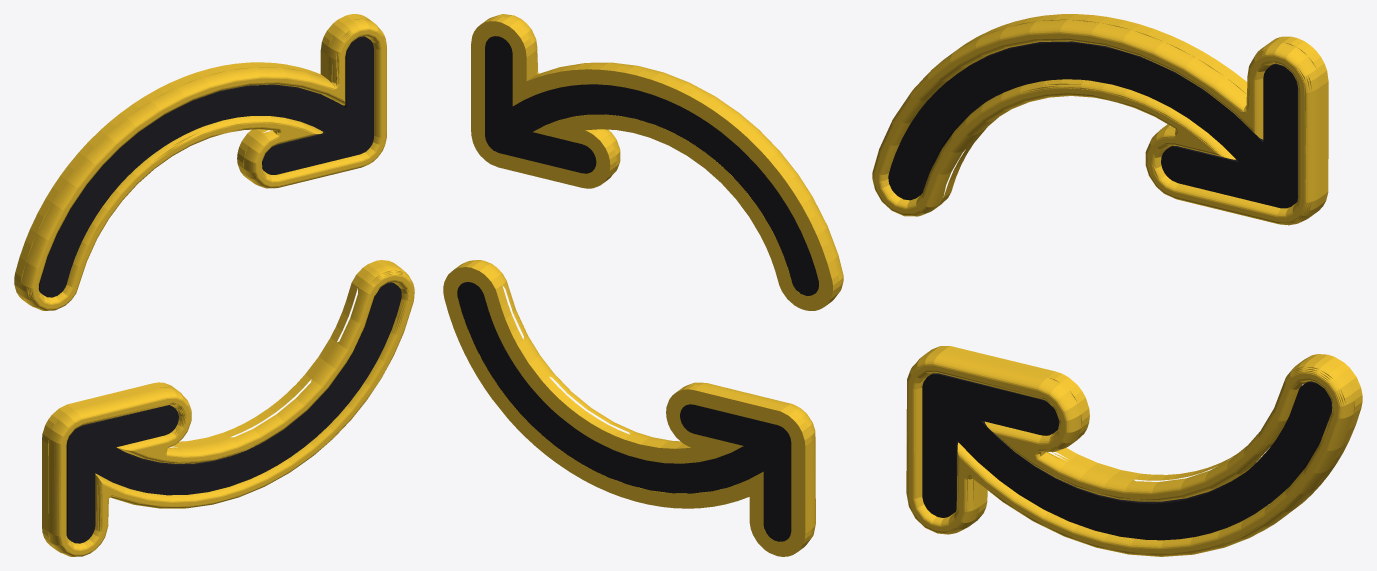
The model's file is cycles_t8.glb.
3 views of the same model, side by side, from view 1: azimuth 30°, elevation 25°; view 2: azimuth 150°, elevation 25°; view 3: azimuth 330°, elevation 25° (orthographic). The views are drawn at different scales.
Parts seen in each view (by area): view 1: mark, mark_channel; view 2: mark, mark_channel; view 3: mark, mark_channel.
Boxes of the visible parts, x1,y1,x2,y2 form: mark: [14, 14, 414, 556]; mark_channel: [39, 36, 401, 543]; mark: [443, 14, 843, 556]; mark_channel: [457, 36, 818, 541]; mark: [872, 14, 1362, 556]; mark_channel: [888, 41, 1332, 540].
Bounding box in the file's own units: 0.3778 × 0.4319 × 0.024.
